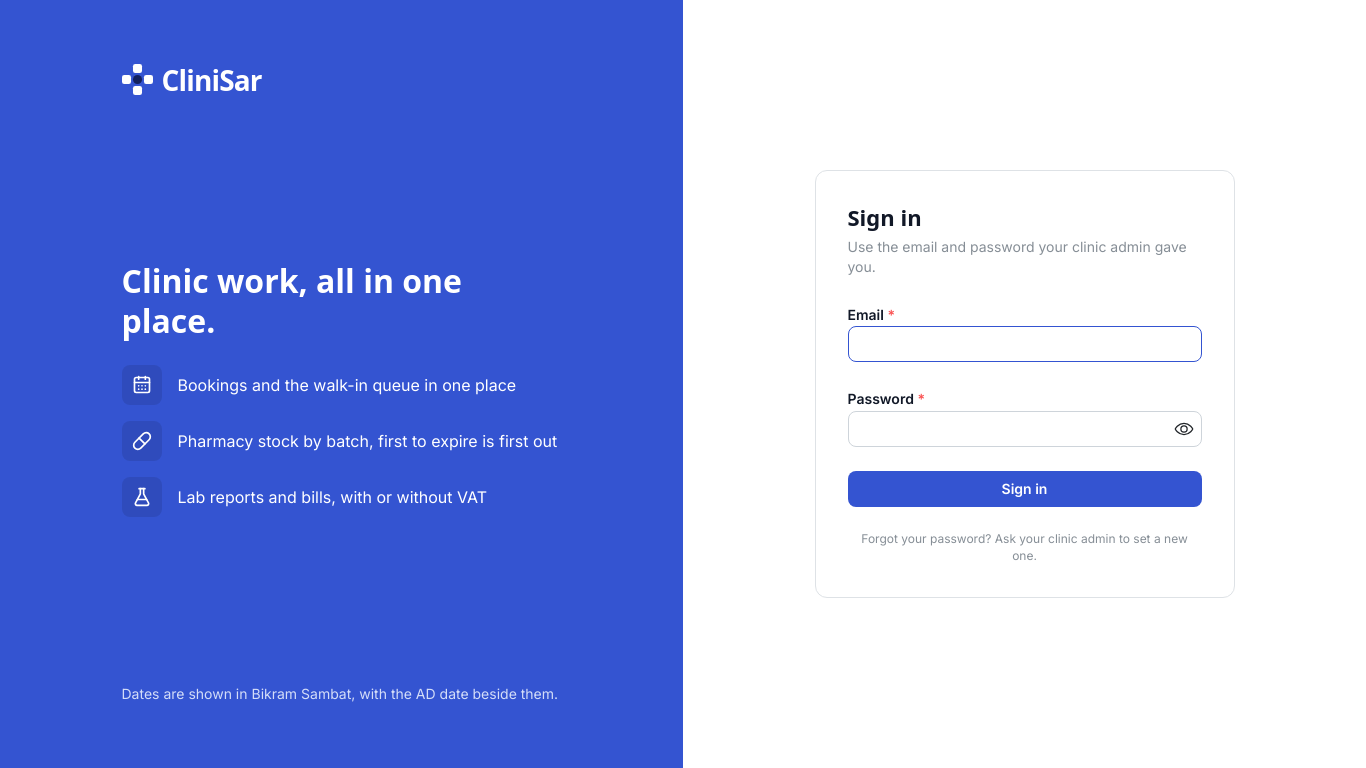
Test: LoginPage › goes to the dashboard after signing in
Type "sita@clinic.test" into the field labelled "Email *".
click(1024, 344); type("sita@clinic.test")  # box [848, 326, 1202, 362]
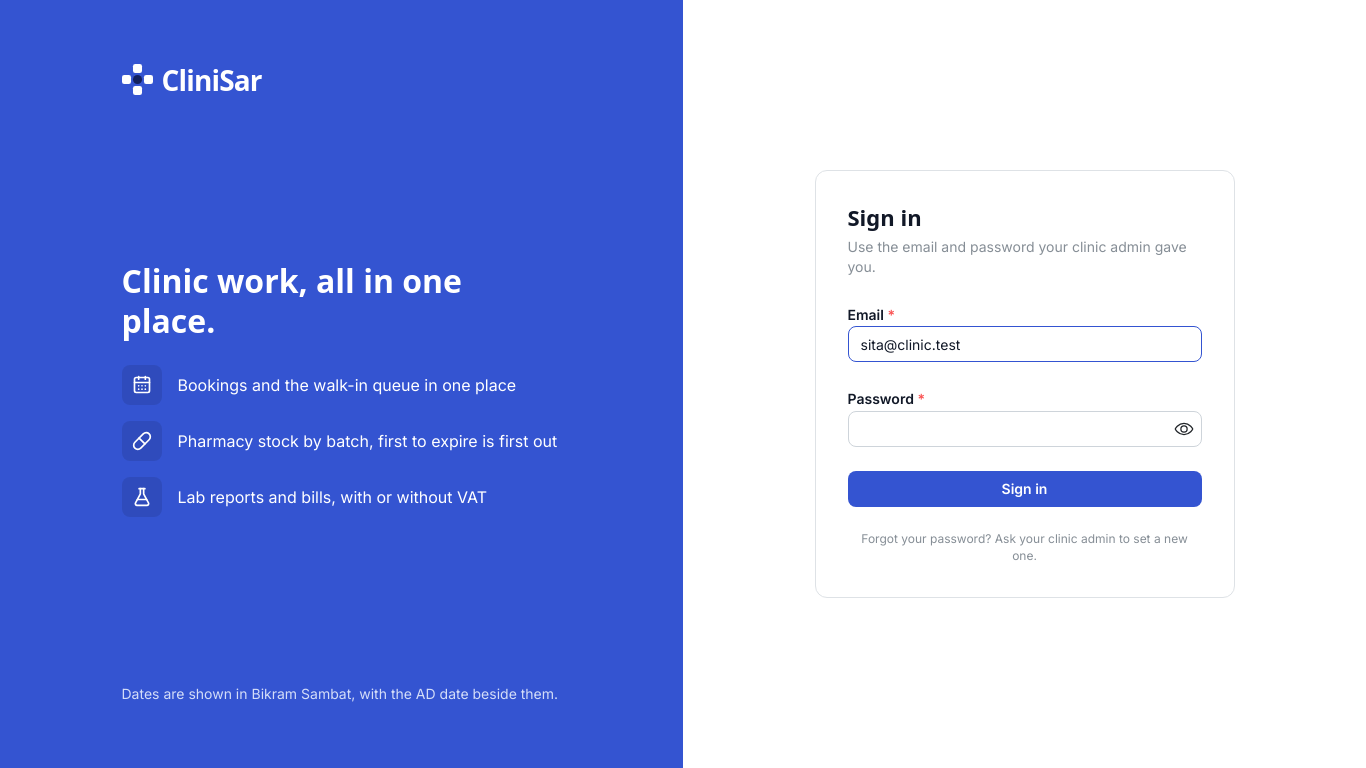
Type "right-pass" into the password field labelled "Password *".
click(1024, 429); type("right-pass")  # box [848, 412, 1200, 446]
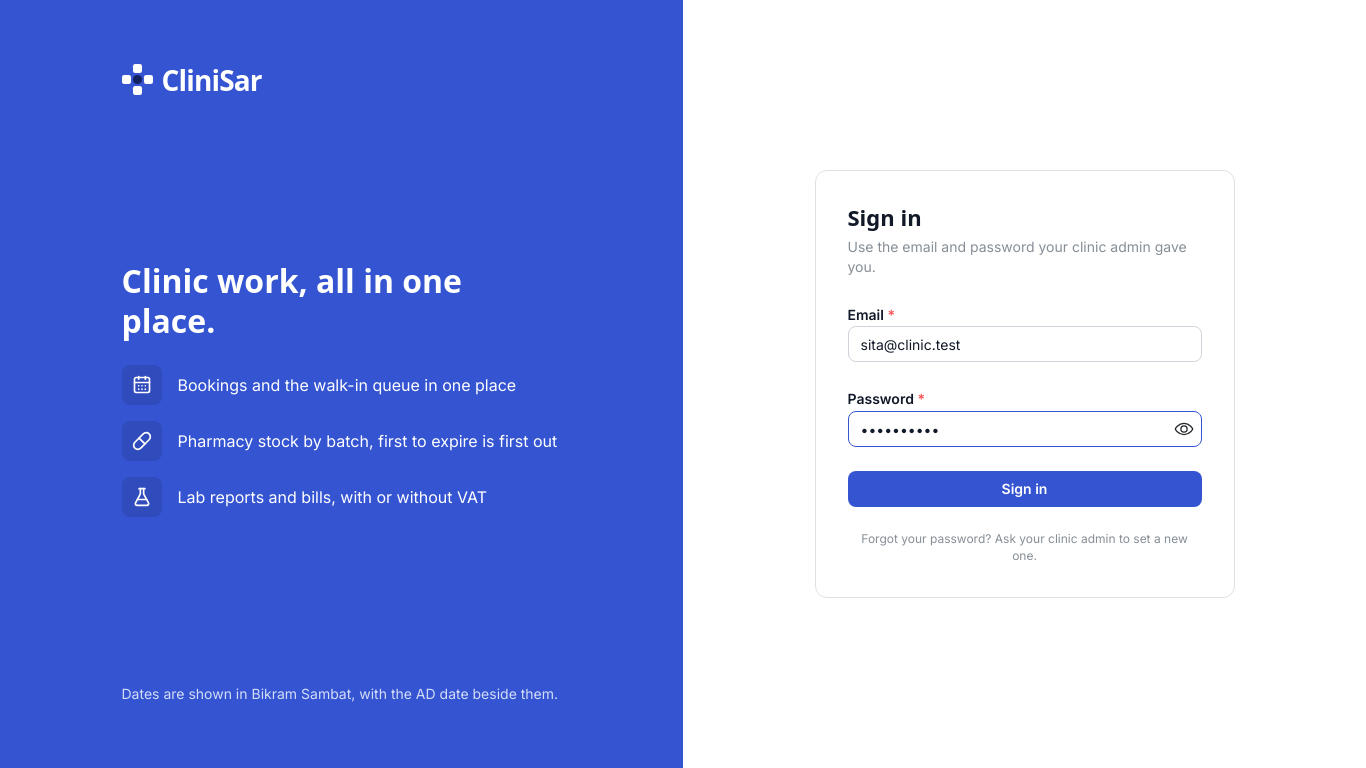
Click the button "Sign in".
click(1024, 489)  # box [848, 471, 1202, 507]
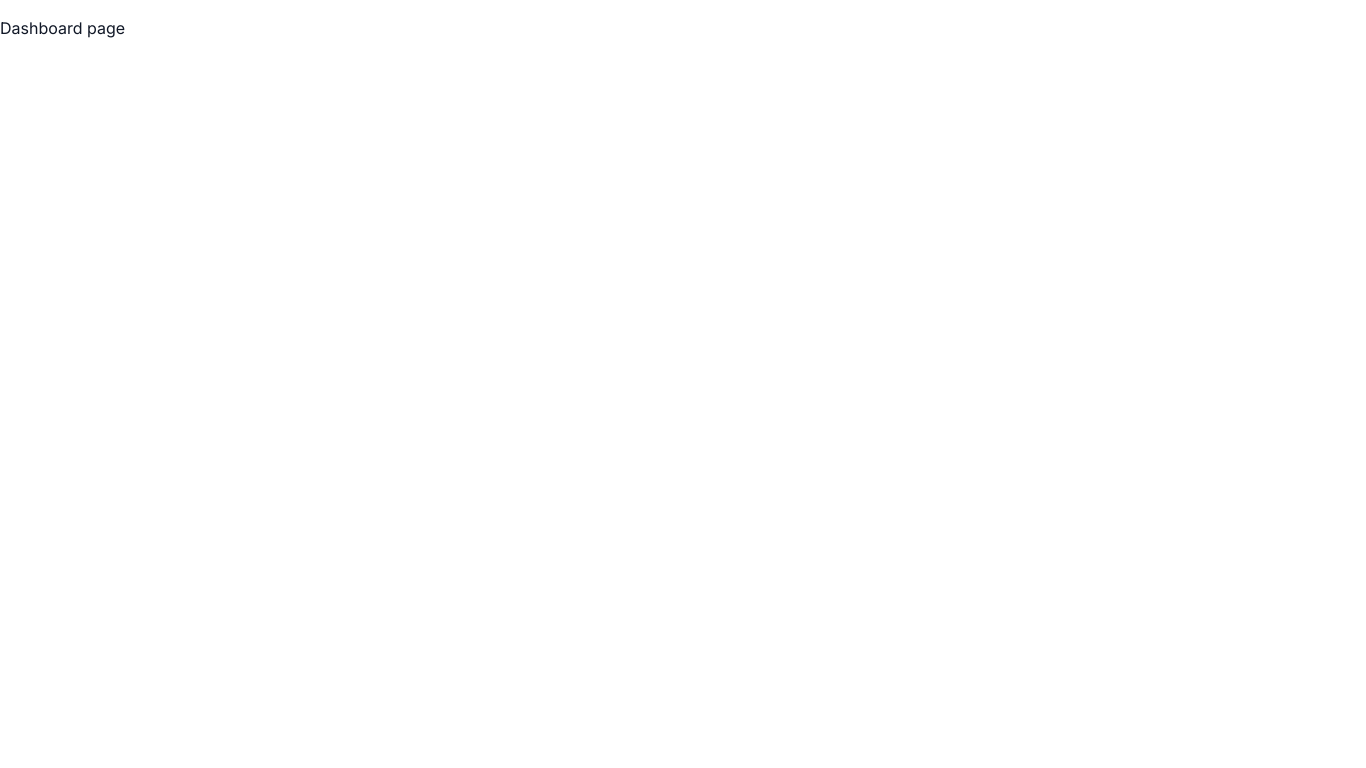
Check: the text "Dashboard page" is shown, box [0, 18, 125, 38]
